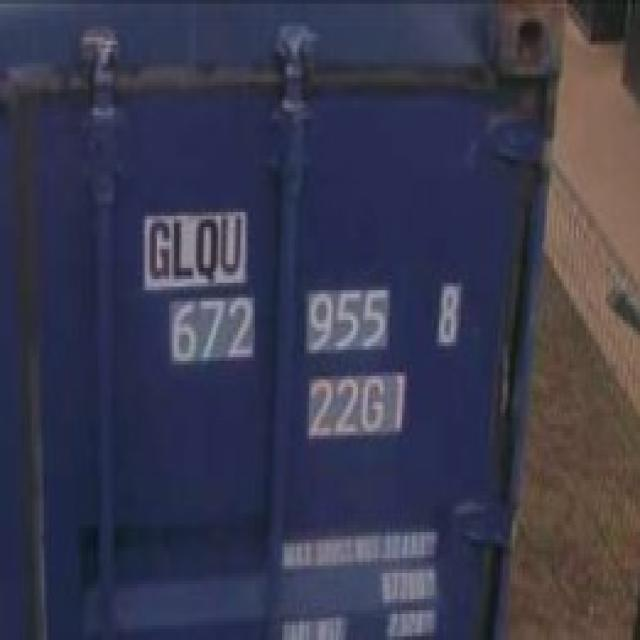dv: (433, 278, 461, 350)
owner: (141, 212, 245, 285)
serial: (166, 291, 392, 366)
size: (303, 371, 407, 439)
